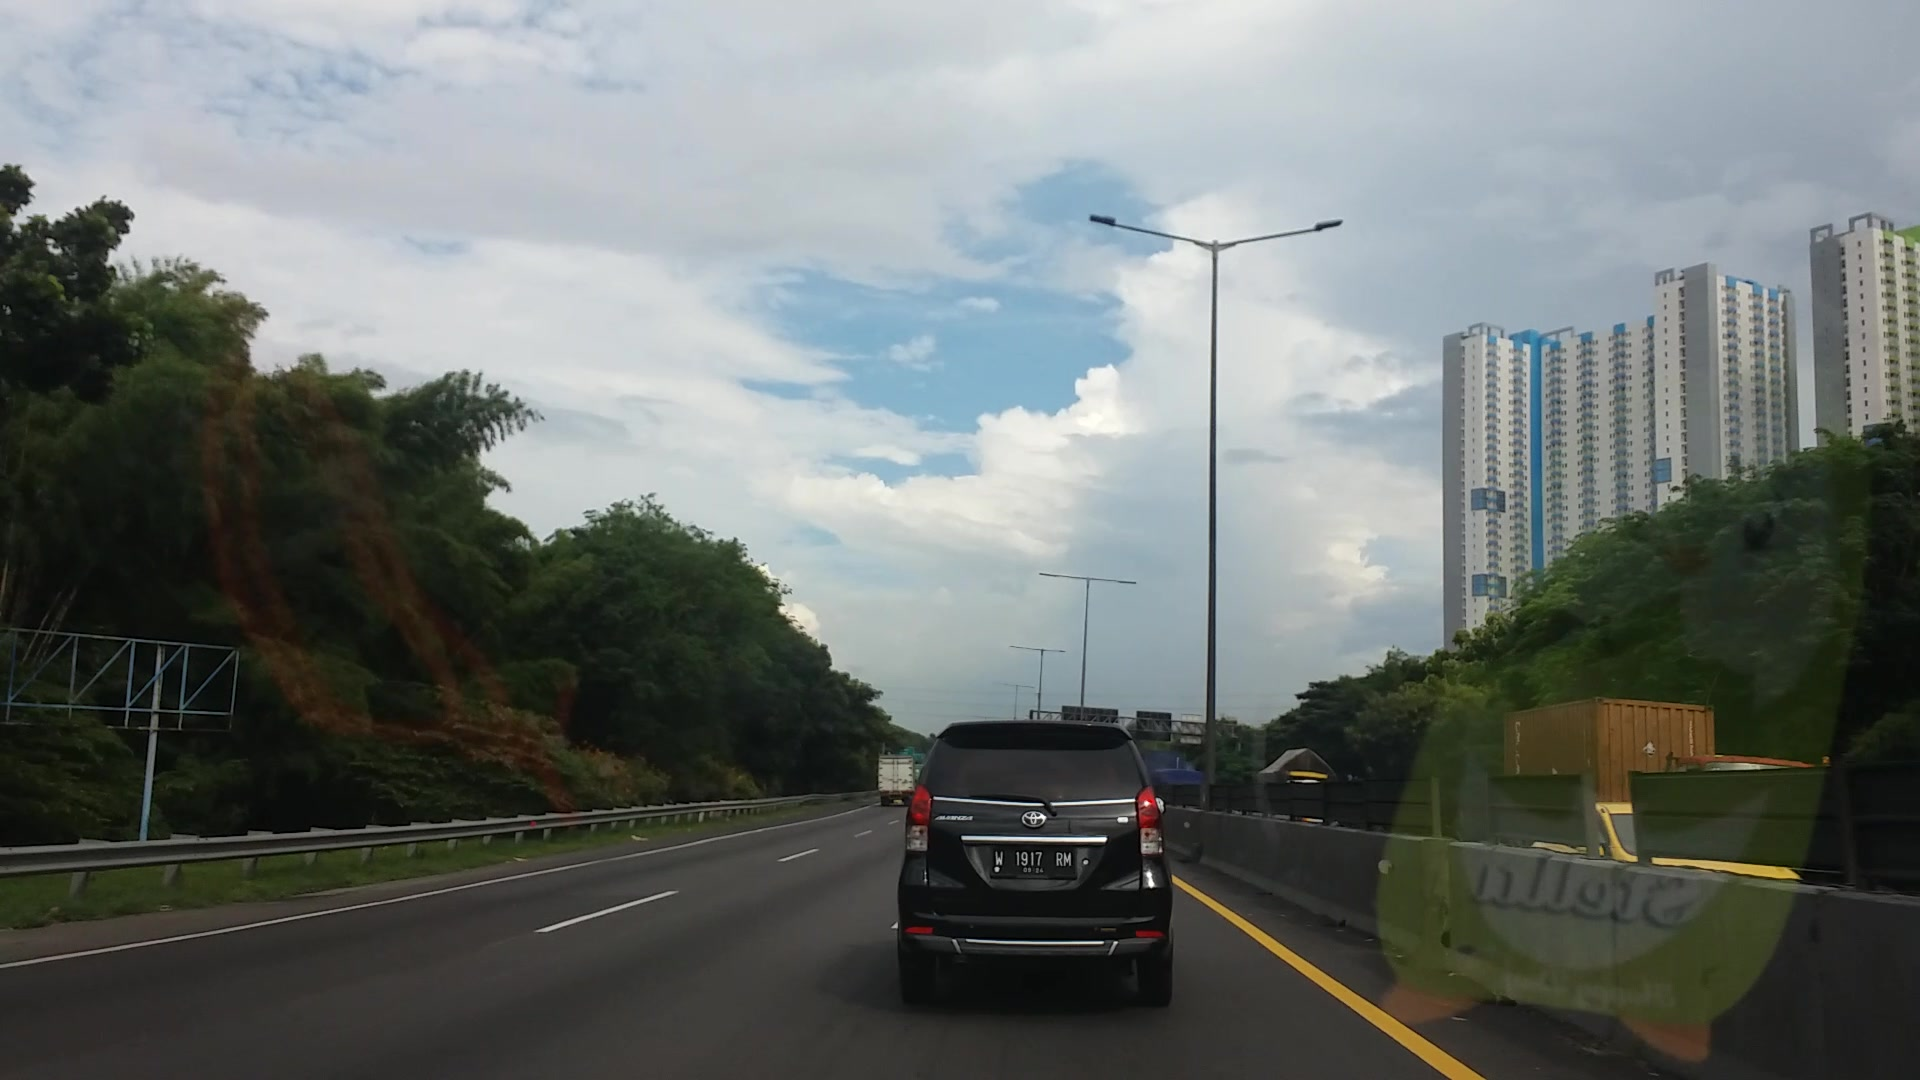plate_positive: (992, 847, 1072, 876)
